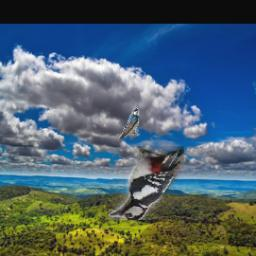Swallow: (118, 106, 140, 140)
Woodpecker: (109, 146, 185, 220)
